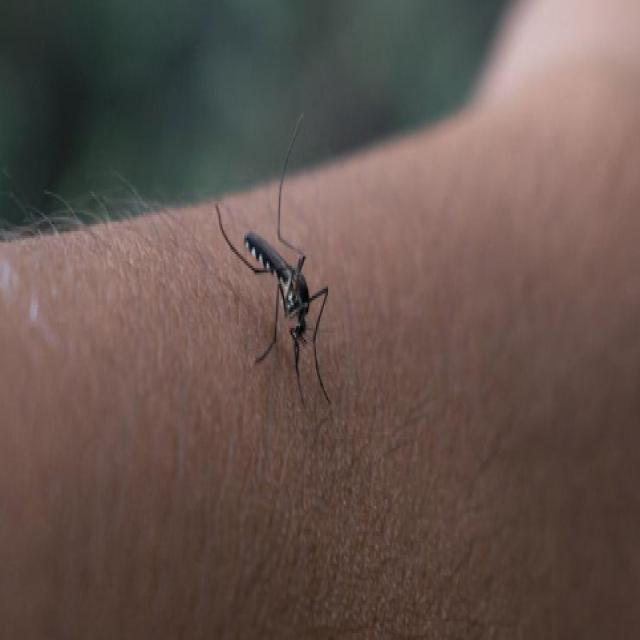Mosquito: (203, 141, 349, 410)
